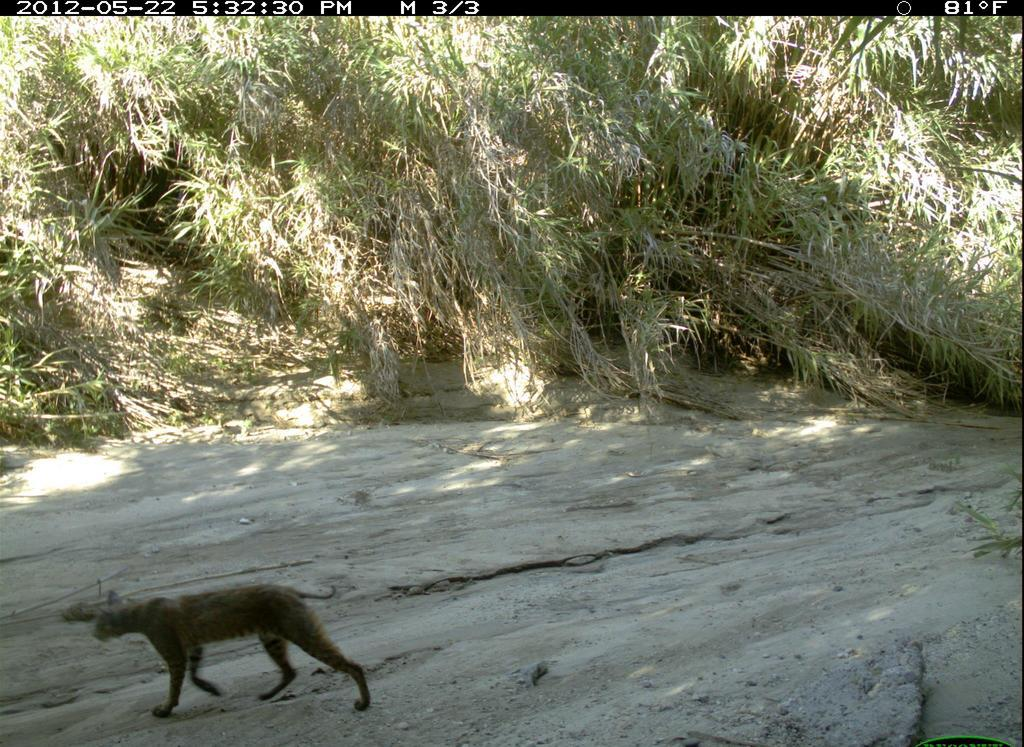bobcat: (75, 565, 400, 728)
